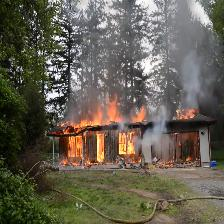fire: (64, 108, 146, 156)
smoke: (175, 14, 203, 101), (152, 109, 168, 148)
